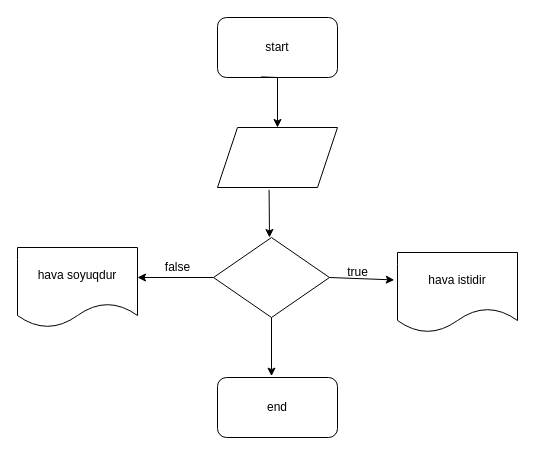
Some shapes in this 535 by 455 pixel diagram are drawn without their labels. The centre of each missing label's shape, as x and y in pixels:
"temperatur" belongs at [277,157].
"temperatur>15" belongs at [271,277].
